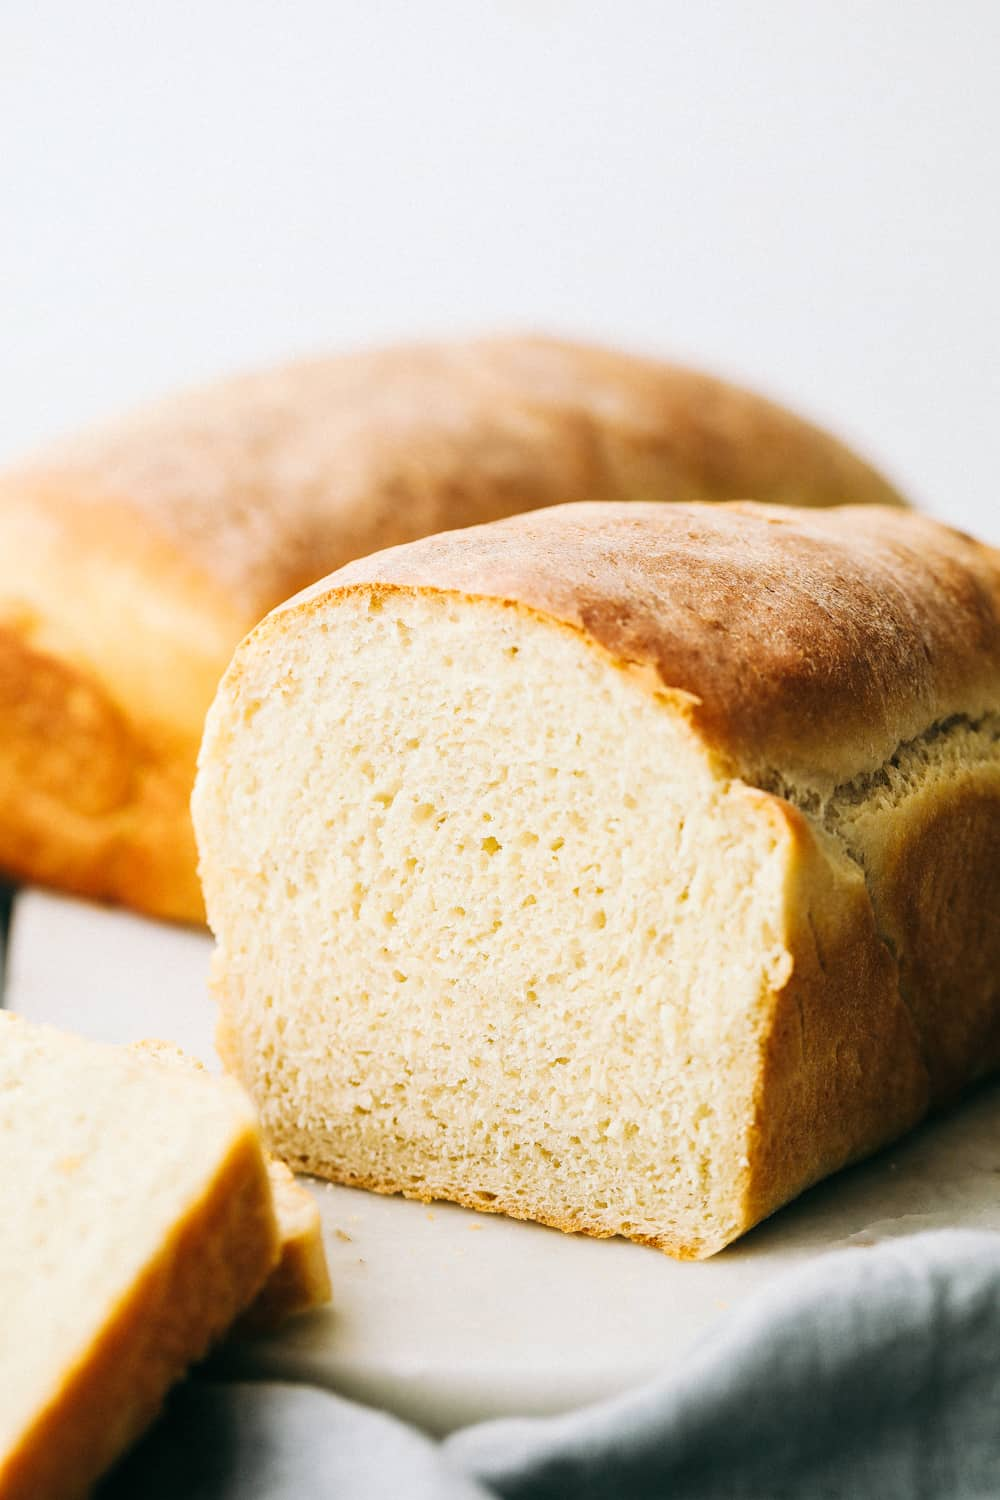Bread: (177, 417, 993, 1265)
